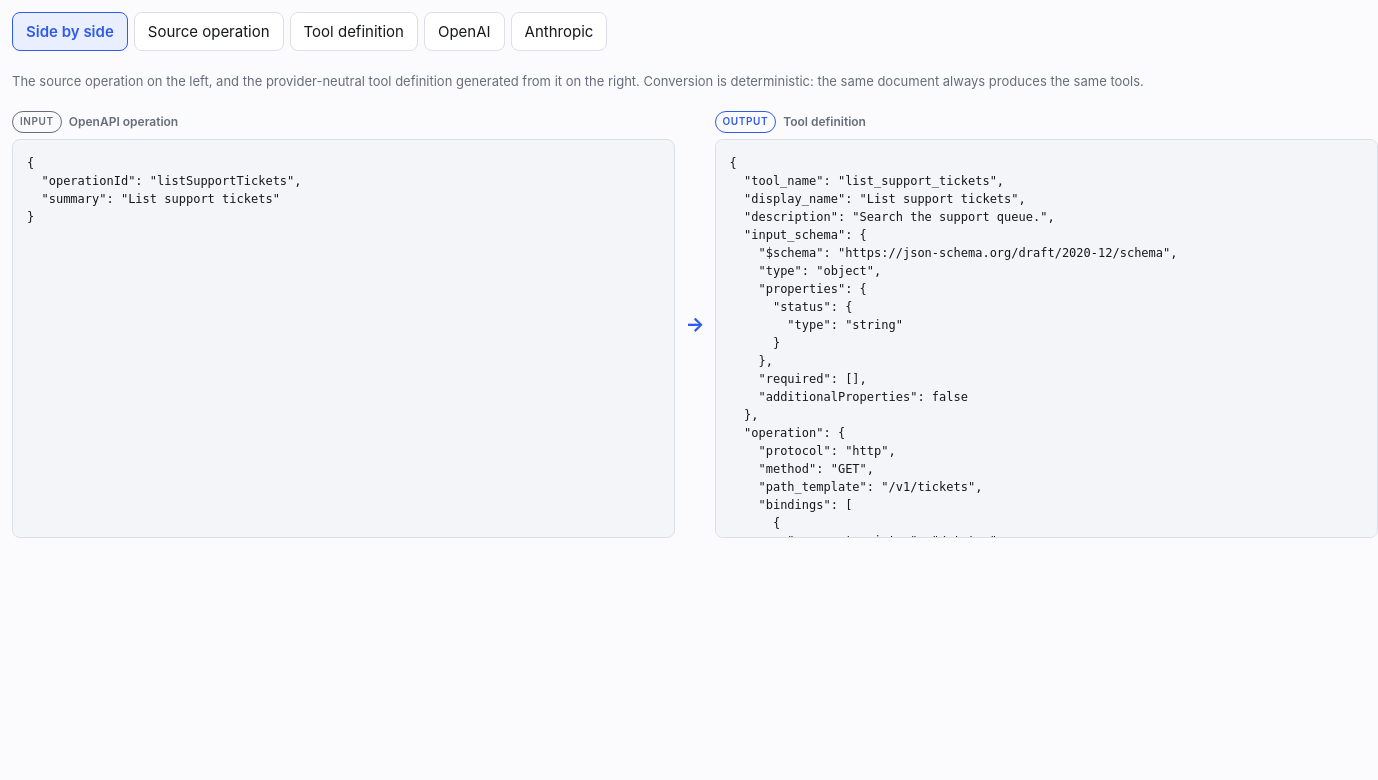
it: TransformationView › states that the canonical format is project-defined, not a standard
Click the tab "Tool definition".
click(354, 32)  # box [290, 12, 418, 51]
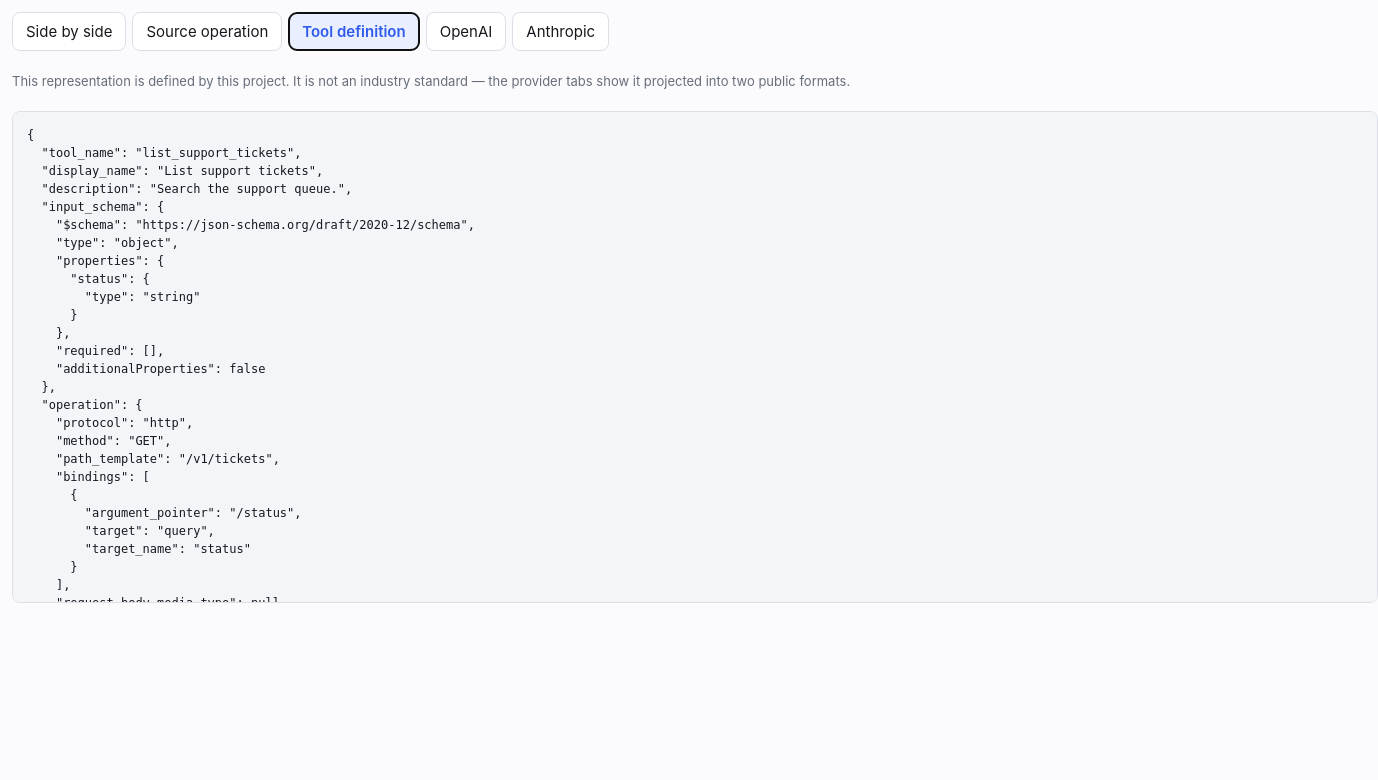
Check: the text "not an industry standard" is shown, box [12, 73, 850, 89]
